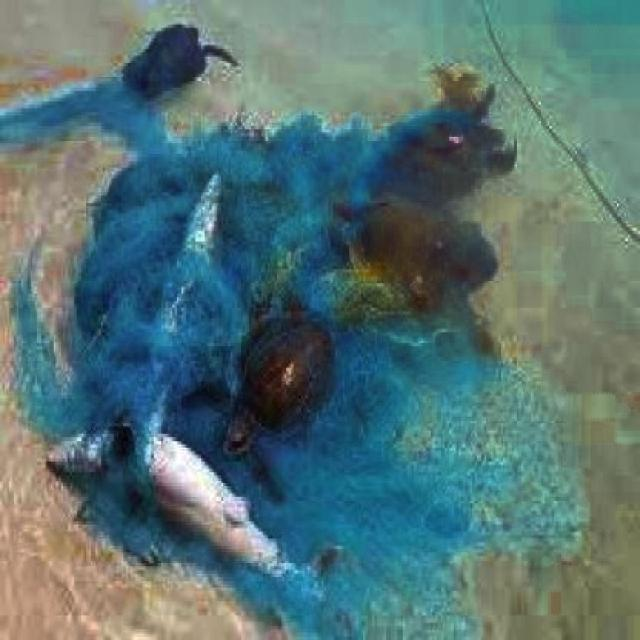net: (86, 119, 499, 563)
